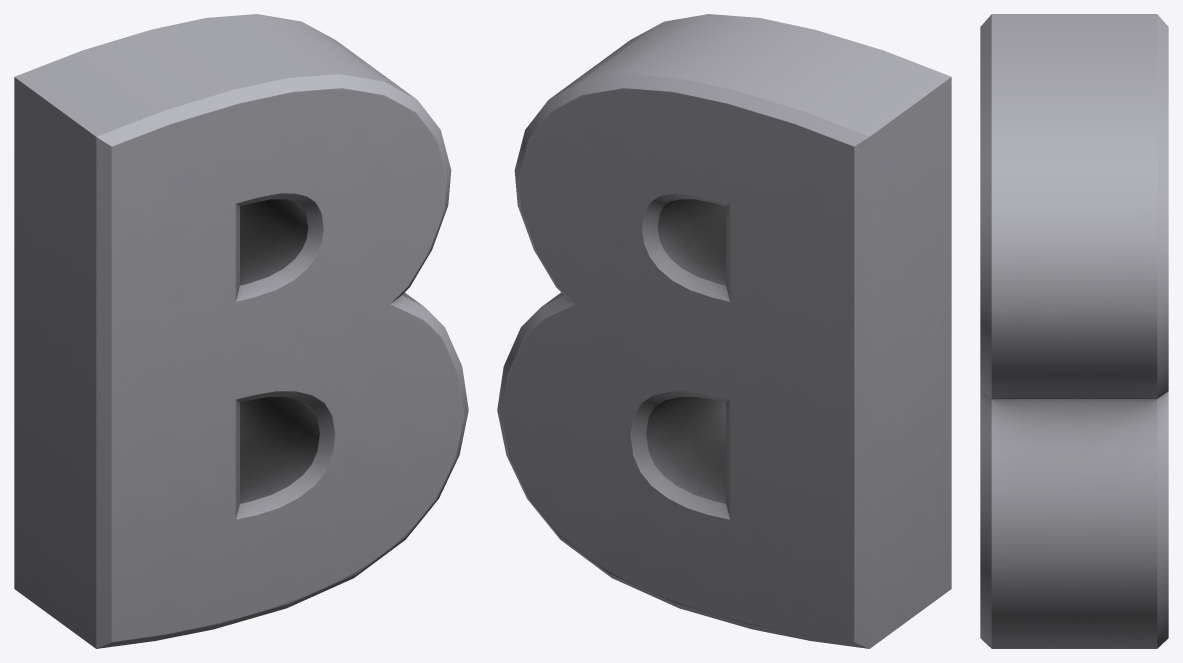
Rendered from B_static.fbx.
3 renders of one model, left to right at view 1: azimuth 30°, elevation 25°; view 2: azimuth 150°, elevation 25°; view 3: azimuth 270°, elevation 25°, orthographic.
Parts seen in each view (by area): view 1: B_static; view 2: B_static; view 3: B_static.
Boxes of the visible parts, bbox=[...] form: B_static: bbox=[14, 14, 468, 648]; B_static: bbox=[497, 14, 951, 648]; B_static: bbox=[980, 14, 1168, 648].
Bounding box in the file's own units: 75.98 × 104 × 33.
